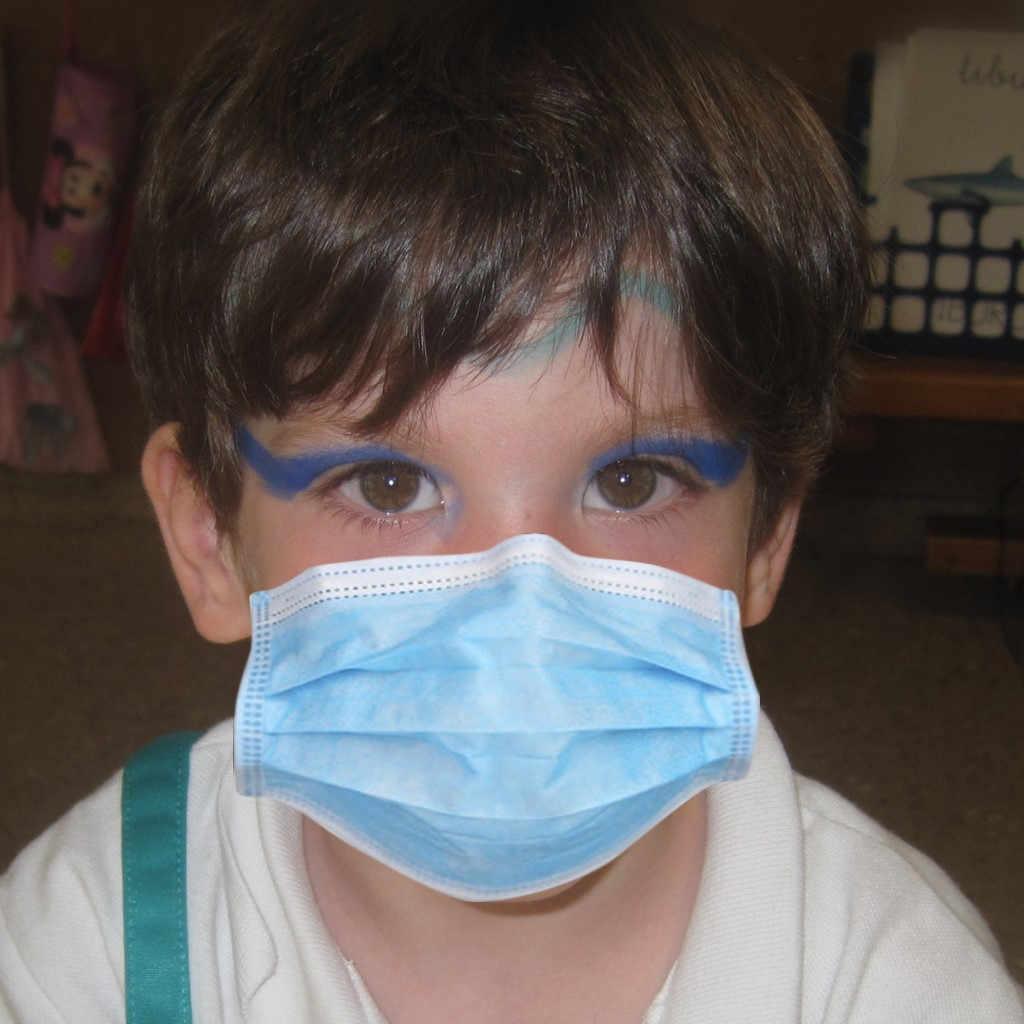con_mascara: (189, 157, 781, 915)
